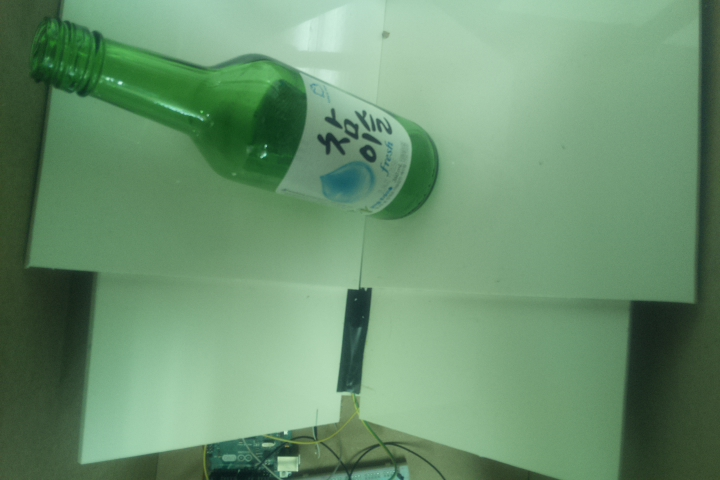soju: (26, 14, 439, 223)
